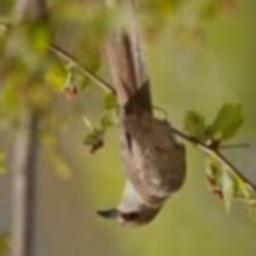Cuckoo: (87, 0, 187, 228)
